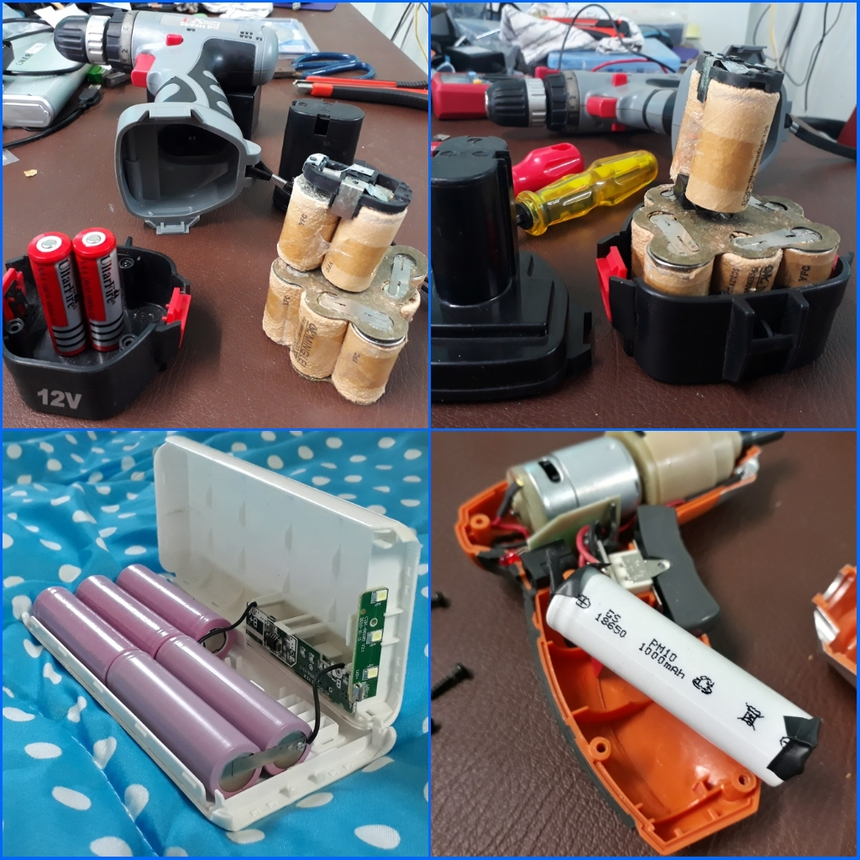Battery: (545, 563, 822, 790), (101, 643, 269, 803), (153, 633, 319, 781), (113, 558, 237, 663), (319, 193, 415, 302), (23, 226, 91, 358), (73, 223, 129, 354)
